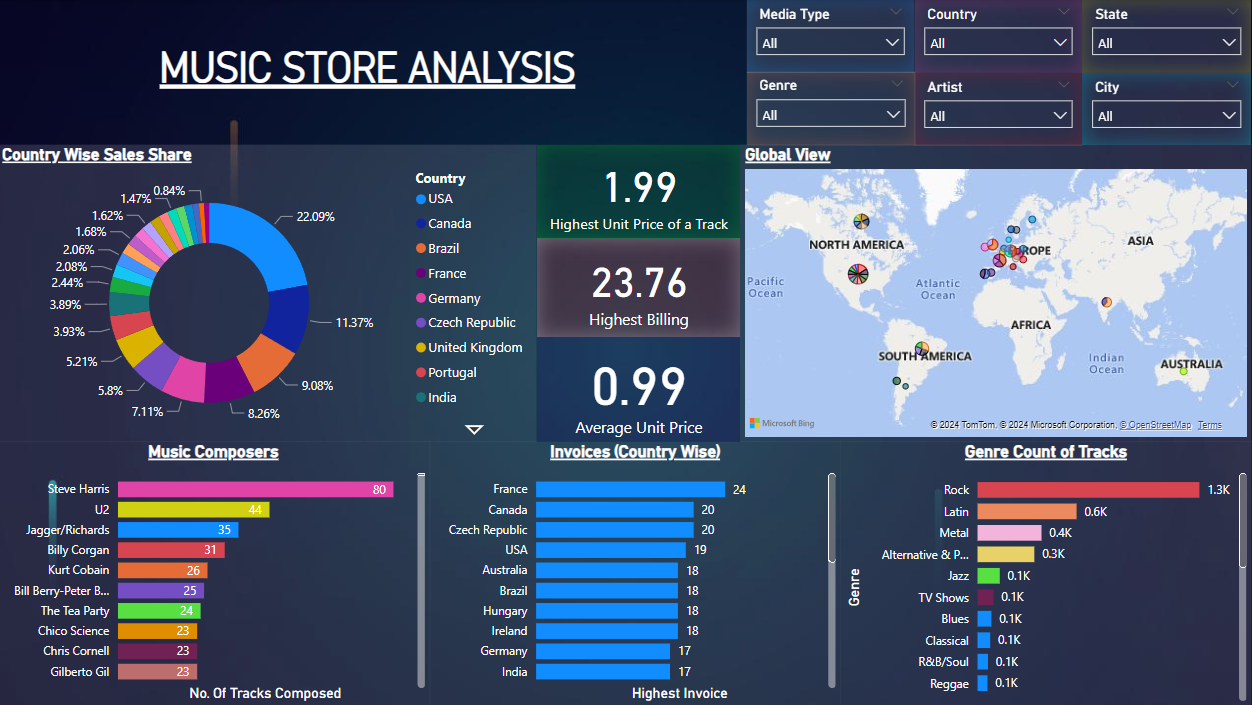

What the dashboard file says about the page in this screenshot:
{"tool":"powerbi","page":{"name":"Page 1","canvas":[1280,720],"ordinal":0},"visuals":[{"type":"card","fields":{"Values":["invoice.total"]},"box":[550.9,243.3,207.3,100.3],"z":0},{"type":"card","fields":{"Values":["track.unit_price"]},"box":[550.9,147.6,207.3,95.8],"z":1000},{"type":"barChart","title":"Top 10 Genre in All Tracks","fields":{"Category":["track.genre"],"Y":["track.genre"]},"box":[860.7,450.6,419.1,269.3],"z":2000},{"type":"clusteredBarChart","title":"Top Invoices (Country Wise)","fields":{"Category":["invoice.billing_country"],"Y":["invoice.total"]},"box":[441.6,450.6,419.1,269.3],"z":3000},{"type":"card","fields":{"Values":["invoice_line.unit_price"]},"box":[550.9,343.6,207.3,107],"z":4000},{"type":"map","title":"Global View","fields":{"Category":["invoice.billing_country","invoice.billing_state"],"Size":["invoice.total"],"Series":["invoice.billing_city"]},"box":[758.2,147.6,521.6,303.1],"z":5000},{"type":"clusteredBarChart","title":"Top 10 Music Composers","fields":{"Category":["track.composer"],"Y":["track.composer"]},"box":[0,450.6,441.6,269.3],"z":6000},{"type":"donutChart","title":"Country Wise Sales Share","fields":{"Y":["invoice.total"],"Category":["invoice.billing_country"]},"box":[0,147.6,550.9,303.1],"z":7000},{"type":"slicer","fields":{"Values":["customer.country"]},"box":[936.2,0,171.2,74.4],"z":8000},{"type":"slicer","fields":{"Values":["customer.city"]},"box":[1107.5,74.4,172.4,73.2],"z":9000},{"type":"slicer","fields":{"Values":["invoice.billing_state"]},"box":[1107.5,0,172.4,74.4],"z":10000},{"type":"slicer","fields":{"Values":["artist.name"]},"box":[936.2,74.4,171.2,74.4],"z":11000},{"type":"slicer","fields":{"Values":["media_type.name"]},"box":[765,0,171.2,74.4],"z":12000},{"type":"slicer","fields":{"Values":["genre.name"]},"box":[765,73.2,172.4,75.5],"z":13000},{"type":"textbox","box":[144.2,37.2,467.5,59.7],"z":13001}]}

Visuals, with their boxes in screenshot pixels (x1, y1, x2, y2), scaled from the page's 1280x720 canvas onto the 1252x705 screenshot:
card - invoice.total: Rect(539, 238, 742, 336)
card - track.unit_price: Rect(539, 145, 742, 238)
"Top 10 Genre in All Tracks" barChart: Rect(842, 441, 1251, 704)
"Top Invoices (Country Wise)" clusteredBarChart: Rect(432, 441, 842, 704)
card - invoice_line.unit_price: Rect(539, 336, 742, 441)
"Global View" map: Rect(742, 145, 1251, 441)
"Top 10 Music Composers" clusteredBarChart: Rect(0, 441, 432, 704)
"Country Wise Sales Share" donutChart: Rect(0, 145, 539, 441)
slicer - customer.country: Rect(916, 0, 1083, 73)
slicer - customer.city: Rect(1083, 73, 1251, 145)
slicer - invoice.billing_state: Rect(1083, 0, 1251, 73)
slicer - artist.name: Rect(916, 73, 1083, 146)
slicer - media_type.name: Rect(748, 0, 916, 73)
slicer - genre.name: Rect(748, 72, 917, 146)
textbox: Rect(141, 36, 598, 95)
